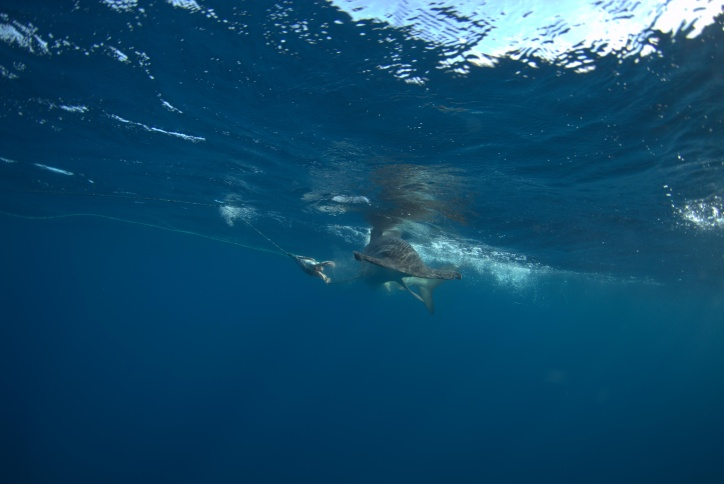Hammer: (281, 200, 523, 347)
